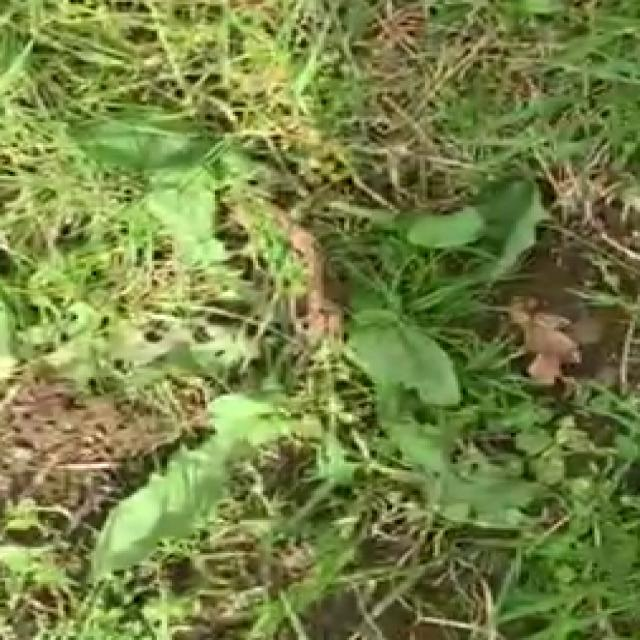organic waste: (0, 370, 405, 628), (318, 91, 576, 485), (64, 75, 294, 265)
